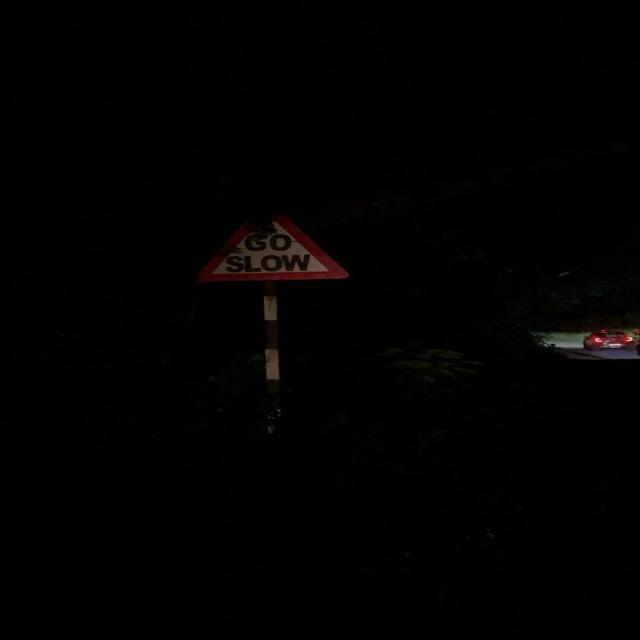go_slow: (197, 217, 362, 285)
